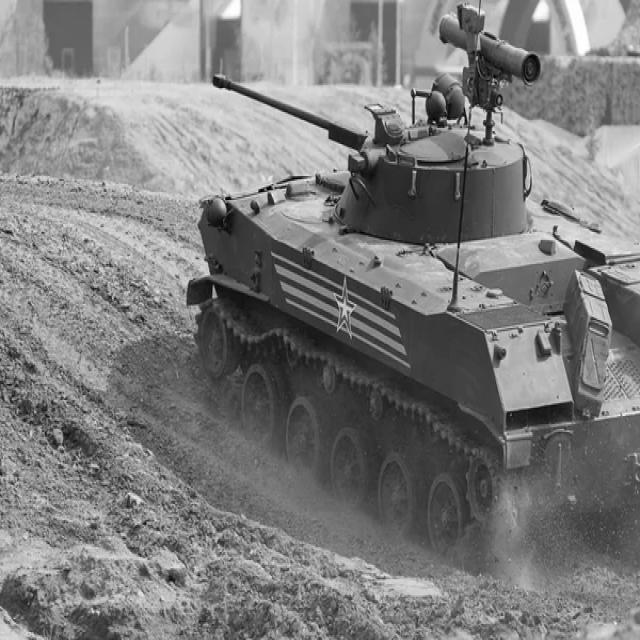Tank: (187, 28, 640, 560)
